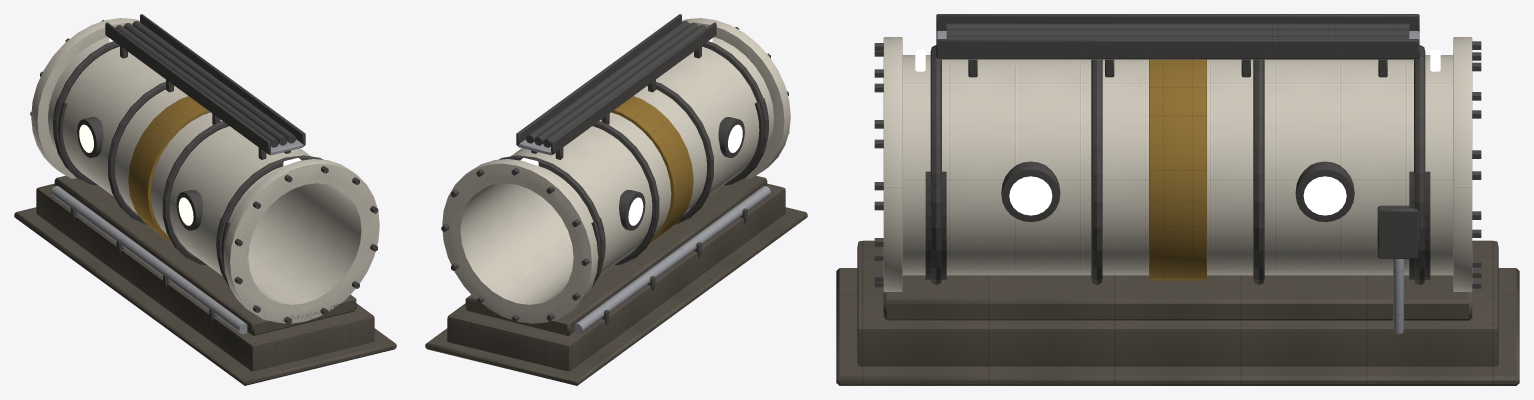
File: hab_link.glb
3 views of the same model, side by side, from view 1: azimuth 30°, elevation 25°; view 2: azimuth 150°, elevation 25°; view 3: azimuth 270°, elevation 25° (orthographic). The views are drawn at different scales.
Parts seen in each view (by area): view 1: shell, footing, apron, collar, cradle, foil_band, collar.001, trunk, tray_lip, tray_lip.001, cable.002, cable.001 (+9 smaller); view 2: shell, footing, apron, collar.001, cradle, foil_band, collar, trunk, tray_lip, tray_lip.001, cable.002, cable.001 (+9 smaller); view 3: shell, footing, cradle, apron, foil_band, tray_lip.001, collar, collar.001, tray_lip, cable, cable.001, rib.001 (+13 smaller).
Part boxes in pixels (box(x1,y1,x2,y2)): shell: box(48, 37, 369, 313); footing: box(36, 183, 374, 371); apron: box(14, 207, 396, 385); collar: box(223, 159, 379, 323); cradle: box(54, 175, 356, 335); foil_band: box(128, 96, 210, 243); collar.001: box(31, 18, 139, 178); trunk: box(51, 186, 247, 334); tray_lip: box(105, 22, 270, 154); tray_lip.001: box(140, 14, 305, 145); cable.002: box(132, 21, 296, 143); cable.001: box(123, 23, 287, 145); shell: box(454, 37, 773, 312); footing: box(447, 183, 785, 371); apron: box(425, 207, 807, 385); collar.001: box(442, 159, 598, 323); cradle: box(465, 175, 767, 335); foil_band: box(611, 96, 693, 243); collar: box(682, 18, 790, 178); trunk: box(574, 186, 770, 334); tray_lip: box(551, 22, 716, 154); tray_lip.001: box(516, 14, 681, 145); cable.002: box(525, 21, 689, 143); cable.001: box(534, 23, 698, 145); shell: box(902, 55, 1453, 275); footing: box(857, 240, 1498, 366); cradle: box(883, 275, 1472, 320); apron: box(836, 268, 1519, 385); foil_band: box(1149, 59, 1206, 280); tray_lip.001: box(936, 39, 1419, 58); collar: box(883, 37, 902, 292); collar.001: box(1453, 37, 1472, 292); tray_lip: box(936, 14, 1419, 31); cable: box(946, 23, 1409, 29); cable.001: box(946, 29, 1409, 35); rib.001: box(1091, 59, 1102, 284).
Size of the model in its own units: 2.5 by 3.2 by 6.5.
6 materials, 5 textured.
